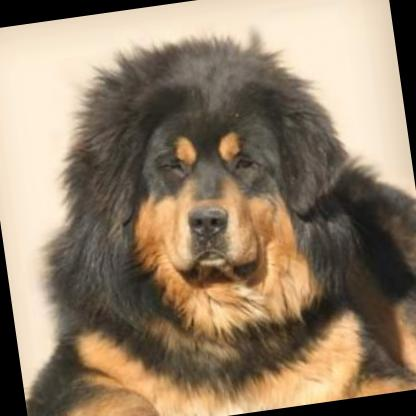Tibetan_mastiff: (0, 11, 416, 416)
